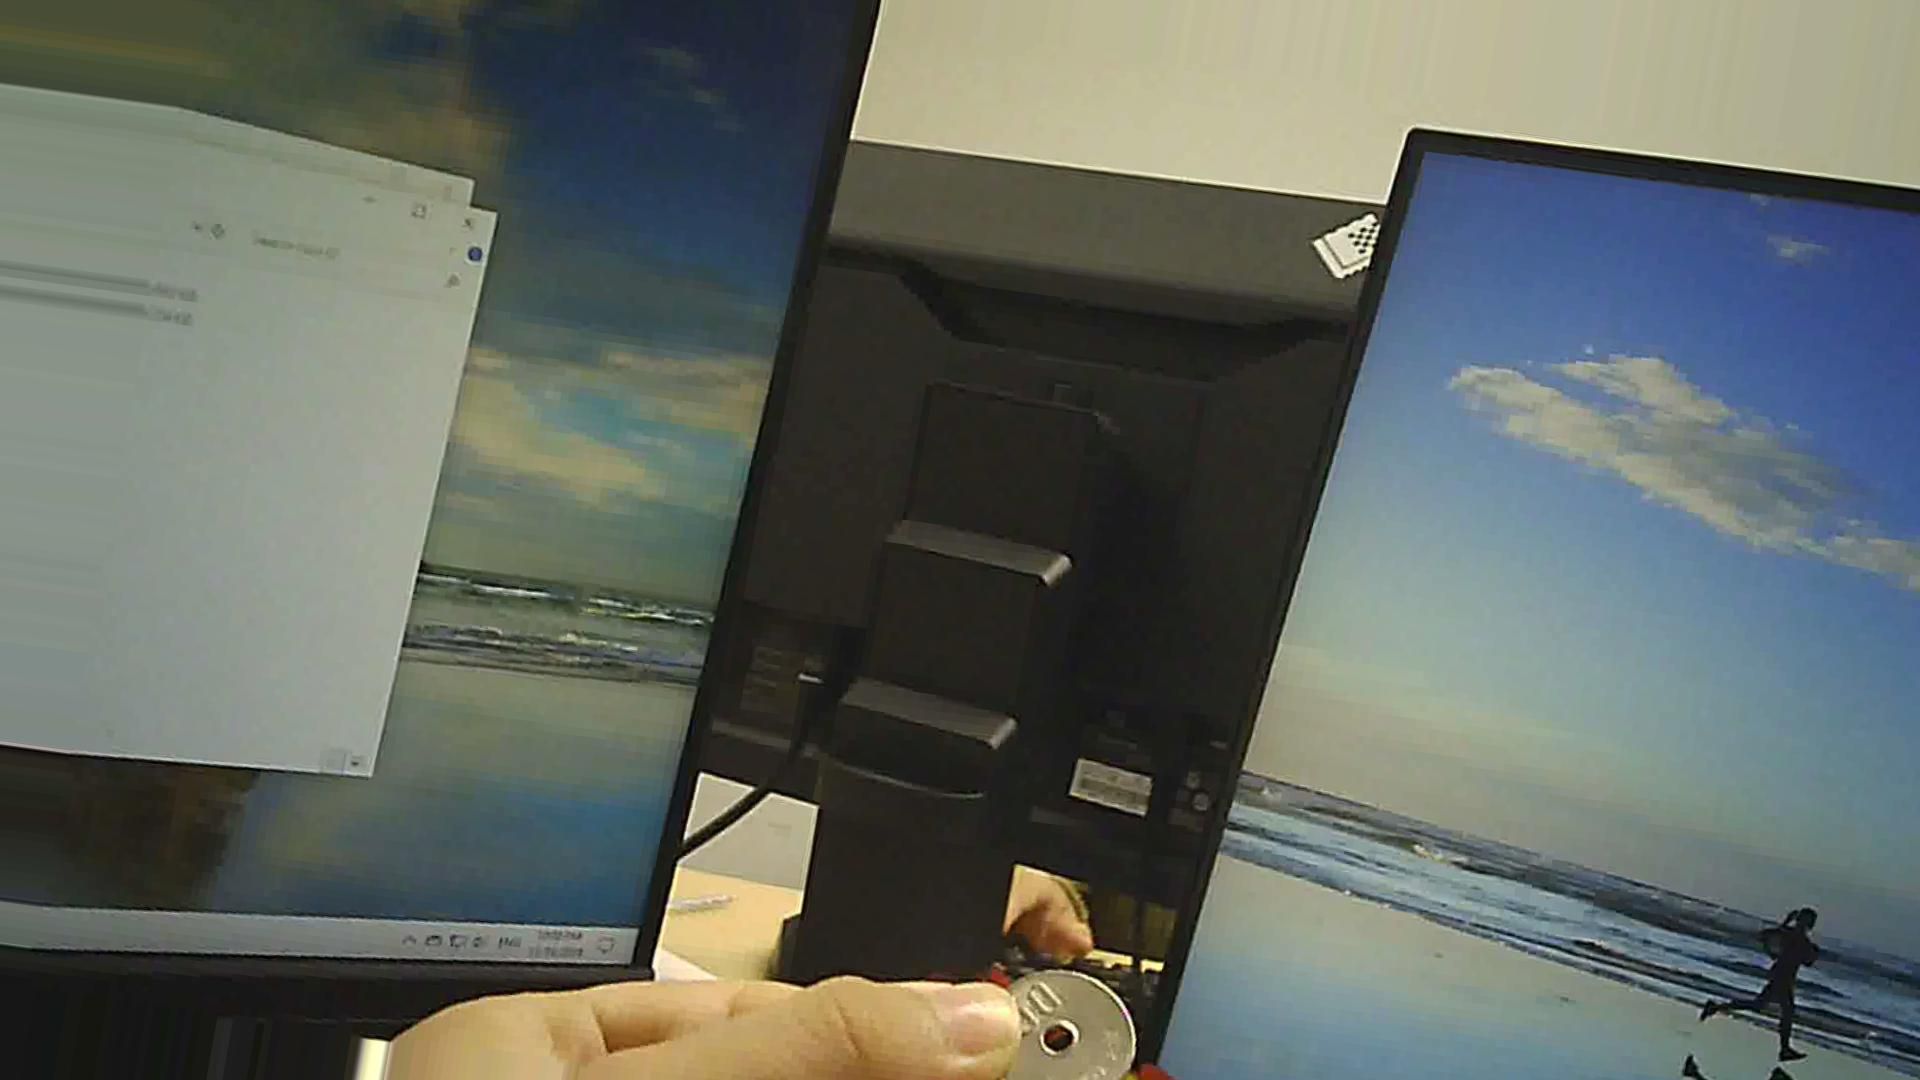50 Yen: (978, 961, 1150, 1076)
